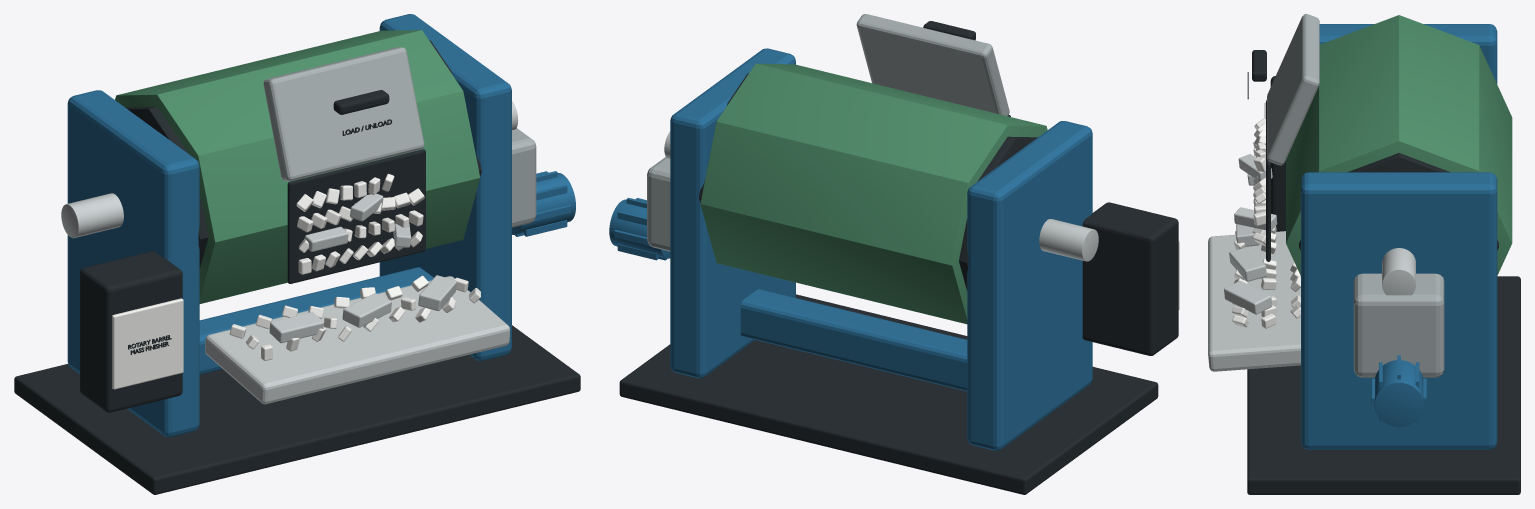
Rendered from rotary_barrel_tumbler.glb.
3 views of the same model, side by side, from view 1: azimuth 30°, elevation 25°; view 2: azimuth 150°, elevation 25°; view 3: azimuth 270°, elevation 25° (orthographic). The views are drawn at different scales.
Visible parts, largest first — view 1: MACHINE_BASE, KIN_ROTARY_BARREL, LEFT_FRAME, DISCHARGE_TRAY, OPEN_CHARGING_HATCH, RIGHT_FRAME, CONTROL_BOX, OPEN_BARREL_MOUTH, TUMBLER_SIGN, FRAME_CROSSMEMBER, GEAR_REDUCER, BARREL_SHAFT_LEFT (+7 smaller); view 2: KIN_ROTARY_BARREL, MACHINE_BASE, LEFT_FRAME, RIGHT_FRAME, CONTROL_BOX, FRAME_CROSSMEMBER, OPEN_CHARGING_HATCH, GEAR_REDUCER, BARREL_SHAFT_LEFT, TUMBLER_DRIVE_MOTOR, BARREL_LEFT_END; view 3: RIGHT_FRAME, KIN_ROTARY_BARREL, MACHINE_BASE, DISCHARGE_TRAY, GEAR_REDUCER, OPEN_CHARGING_HATCH, TUMBLER_DRIVE_MOTOR, LEFT_FRAME, BARREL_SHAFT_RIGHT, BARREL_RIGHT_END, FINISHED_PART_2, CONTROL_BOX (+6 smaller).
Part boxes in pixels (x1,y1,x2,y2): MACHINE_BASE: (14, 325, 580, 494); KIN_ROTARY_BARREL: (115, 30, 480, 303); LEFT_FRAME: (67, 90, 199, 436); DISCHARGE_TRAY: (205, 276, 510, 404); OPEN_CHARGING_HATCH: (263, 47, 424, 181); RIGHT_FRAME: (379, 14, 511, 360); CONTROL_BOX: (80, 251, 182, 412); OPEN_BARREL_MOUTH: (287, 149, 425, 283); TUMBLER_SIGN: (112, 298, 183, 389); FRAME_CROSSMEMBER: (199, 267, 433, 374); GEAR_REDUCER: (512, 128, 536, 227); BARREL_SHAFT_LEFT: (61, 193, 123, 238); KIN_ROTARY_BARREL: (700, 63, 1047, 324); MACHINE_BASE: (619, 294, 1158, 494); LEFT_FRAME: (967, 121, 1092, 450); RIGHT_FRAME: (670, 48, 795, 378); CONTROL_BOX: (1082, 202, 1178, 355); FRAME_CROSSMEMBER: (740, 289, 967, 391); OPEN_CHARGING_HATCH: (856, 14, 1009, 116); GEAR_REDUCER: (647, 157, 670, 251); BARREL_SHAFT_LEFT: (1039, 219, 1098, 261); TUMBLER_DRIVE_MOTOR: (609, 199, 670, 258); BARREL_LEFT_END: (959, 136, 1037, 290); RIGHT_FRAME: (1301, 172, 1497, 449); KIN_ROTARY_BARREL: (1286, 15, 1512, 275); MACHINE_BASE: (1247, 276, 1520, 494); DISCHARGE_TRAY: (1208, 231, 1300, 371); GEAR_REDUCER: (1353, 273, 1444, 377); OPEN_CHARGING_HATCH: (1267, 14, 1319, 165); TUMBLER_DRIVE_MOTOR: (1374, 360, 1423, 426); LEFT_FRAME: (1319, 24, 1497, 83); BARREL_SHAFT_RIGHT: (1382, 248, 1415, 295); BARREL_RIGHT_END: (1299, 153, 1498, 250); FINISHED_PART_2: (1224, 281, 1272, 314); CONTROL_BOX: (1270, 76, 1285, 231).
Bounding box in the file's own units: 3.11 × 2.04 × 1.66.
